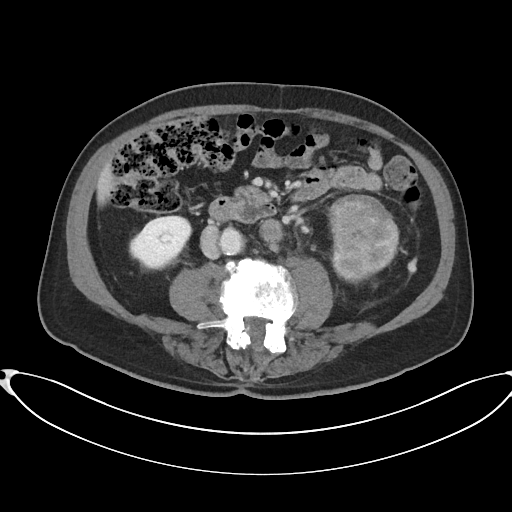Lesion: (326, 193, 403, 284)
